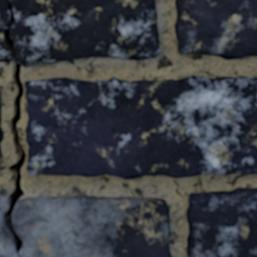brick: (25, 76, 256, 178), (175, 0, 256, 59), (187, 188, 256, 256), (0, 128, 2, 141), (0, 92, 1, 112)
broken_brick: (0, 0, 161, 67), (0, 194, 172, 256), (0, 194, 8, 209)
crack: (0, 2, 25, 254)
